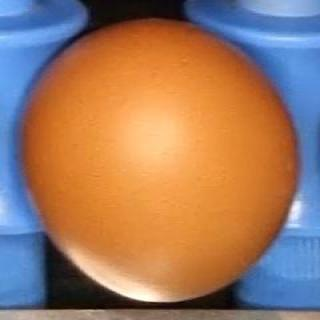Telur: (10, 16, 308, 311)
